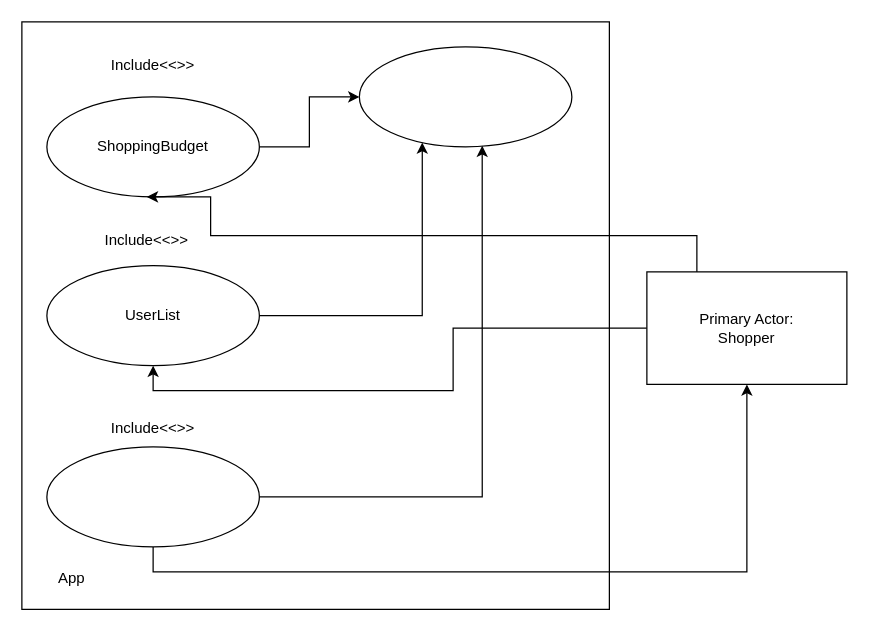
Some shapes in this 869 by 631 pixel diagram are drawn without their labels. Each missing label, with the box of its shape:
PaymentOptions: (46, 446, 259, 547)
Registered Active Account: (358, 46, 572, 147)
